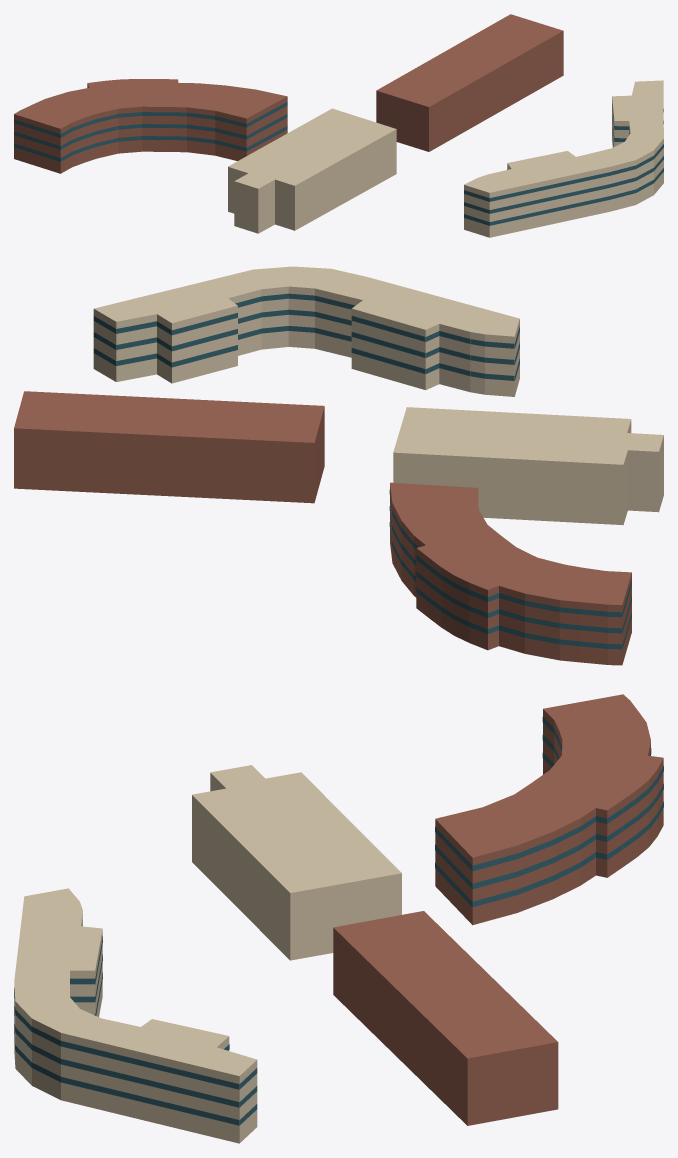
Rendered from city_4_5.glb.
The picture shows the model from 3 angles, top to bottom: view 1: azimuth 30°, elevation 25°; view 2: azimuth 150°, elevation 25°; view 3: azimuth 270°, elevation 25°; orthographic projection. The views are drawn at different scales.
Visible parts, largest first — view 1: city_4_5; view 2: city_4_5; view 3: city_4_5.
Boxes of the visible parts, bbox=[...] form: city_4_5: bbox=[14, 14, 663, 237]; city_4_5: bbox=[14, 266, 663, 665]; city_4_5: bbox=[14, 694, 663, 1143].
Size of the model in its own units: 182 by 15 by 131.
